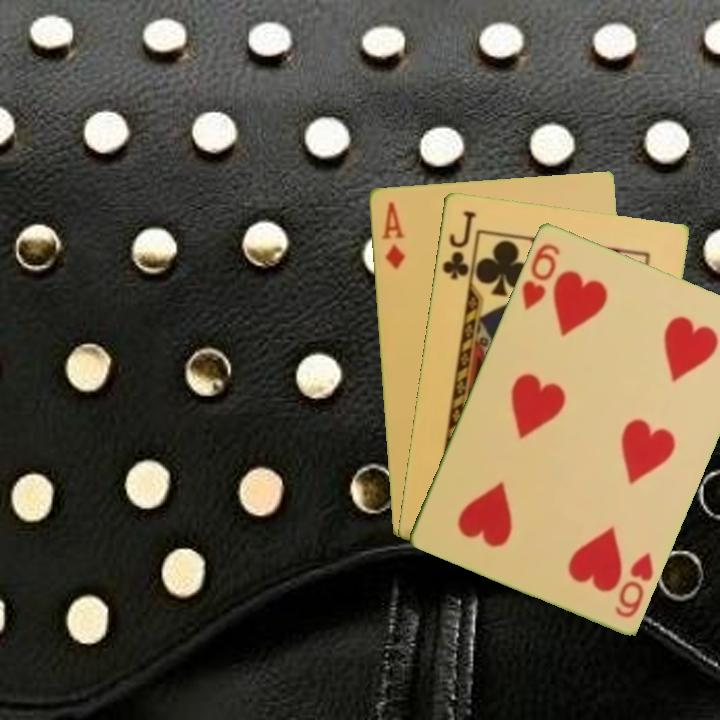6h: (517, 239, 563, 313), (611, 548, 656, 621)
Ad: (377, 197, 408, 271)
Jc: (438, 206, 479, 282)
